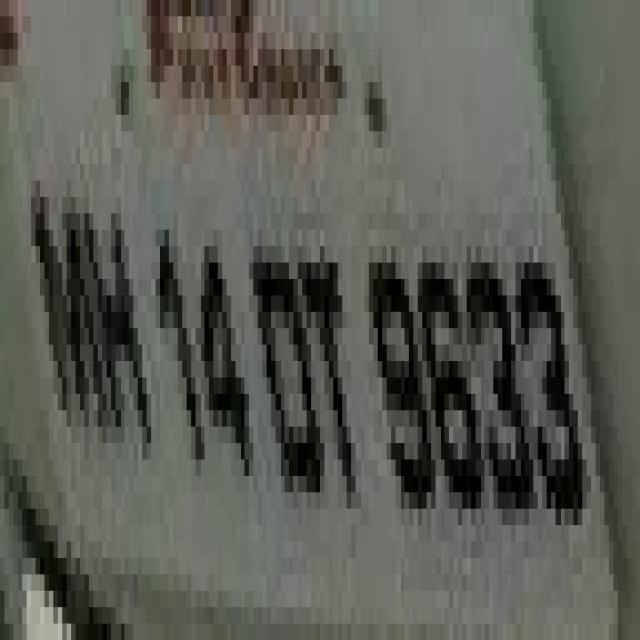license_plate: (13, 0, 591, 607)
